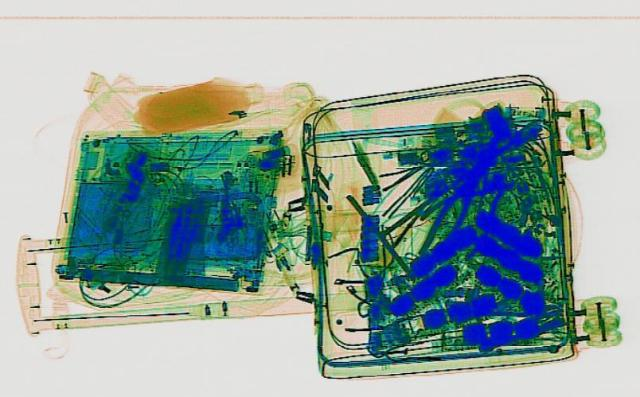Pliers: (416, 174, 484, 255)
